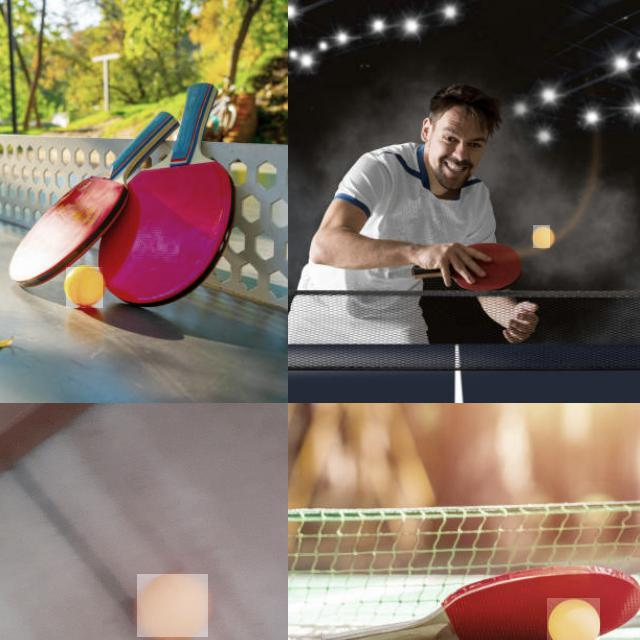ping-pong-ball: (137, 574, 209, 638), (547, 598, 601, 639), (66, 267, 104, 309), (532, 225, 552, 249)
